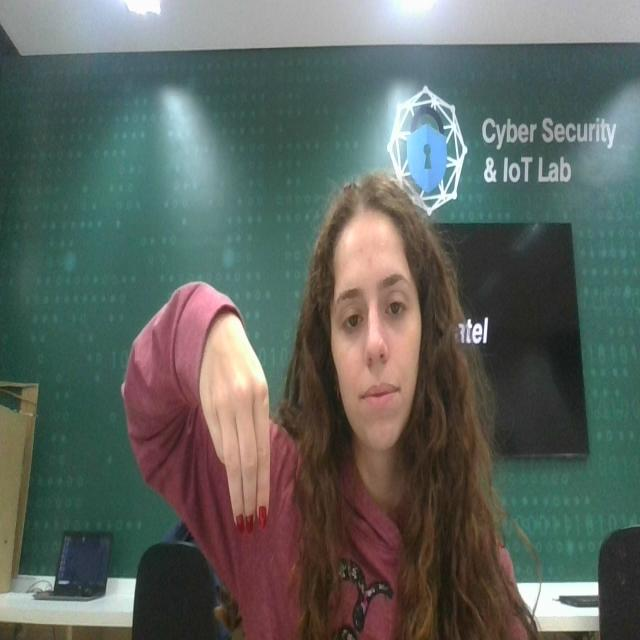M: (202, 309, 284, 551)
